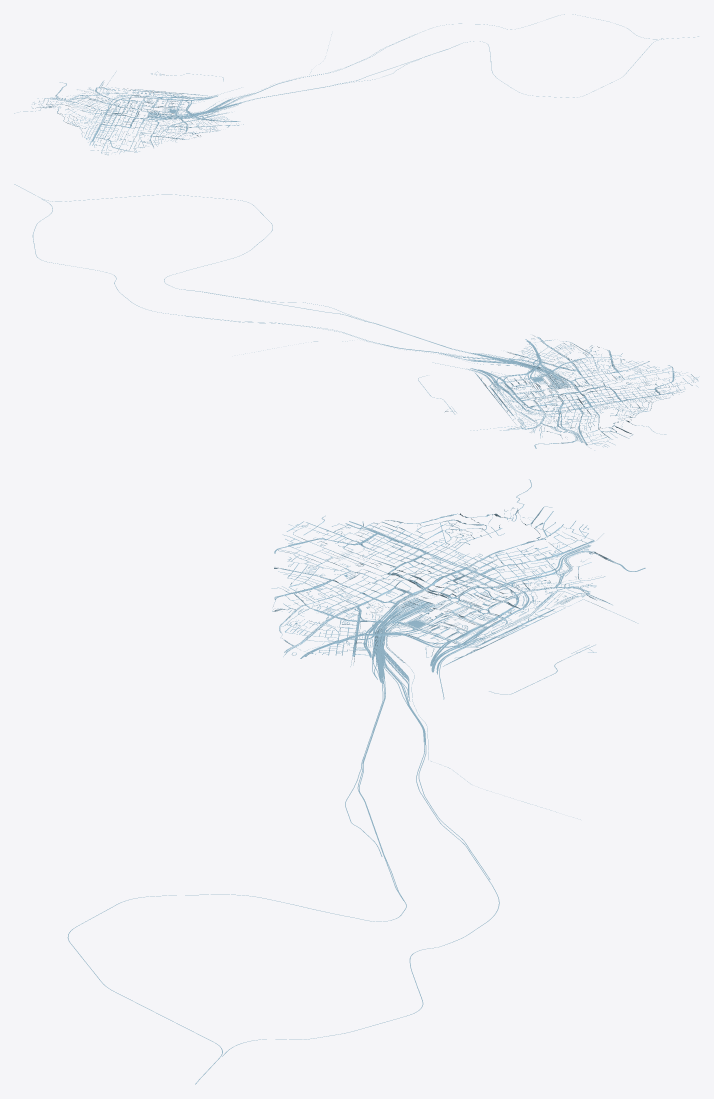
The model's file is roads.glb.
The picture shows the model from 3 angles, top to bottom: view 1: azimuth 30°, elevation 25°; view 2: azimuth 150°, elevation 25°; view 3: azimuth 270°, elevation 25°; orthographic projection. The views are drawn at different scales.
Parts seen in each view (by area): view 1: roads; view 2: roads; view 3: roads.
Part boxes in pixels (x1=…): roads: x1=14, y1=14, x2=698, y2=155; roads: x1=14, y1=184, x2=699, y2=450; roads: x1=67, y1=479, x2=645, y2=1084.
Size of the model in its own units: 12036 by 201 by 5003.
